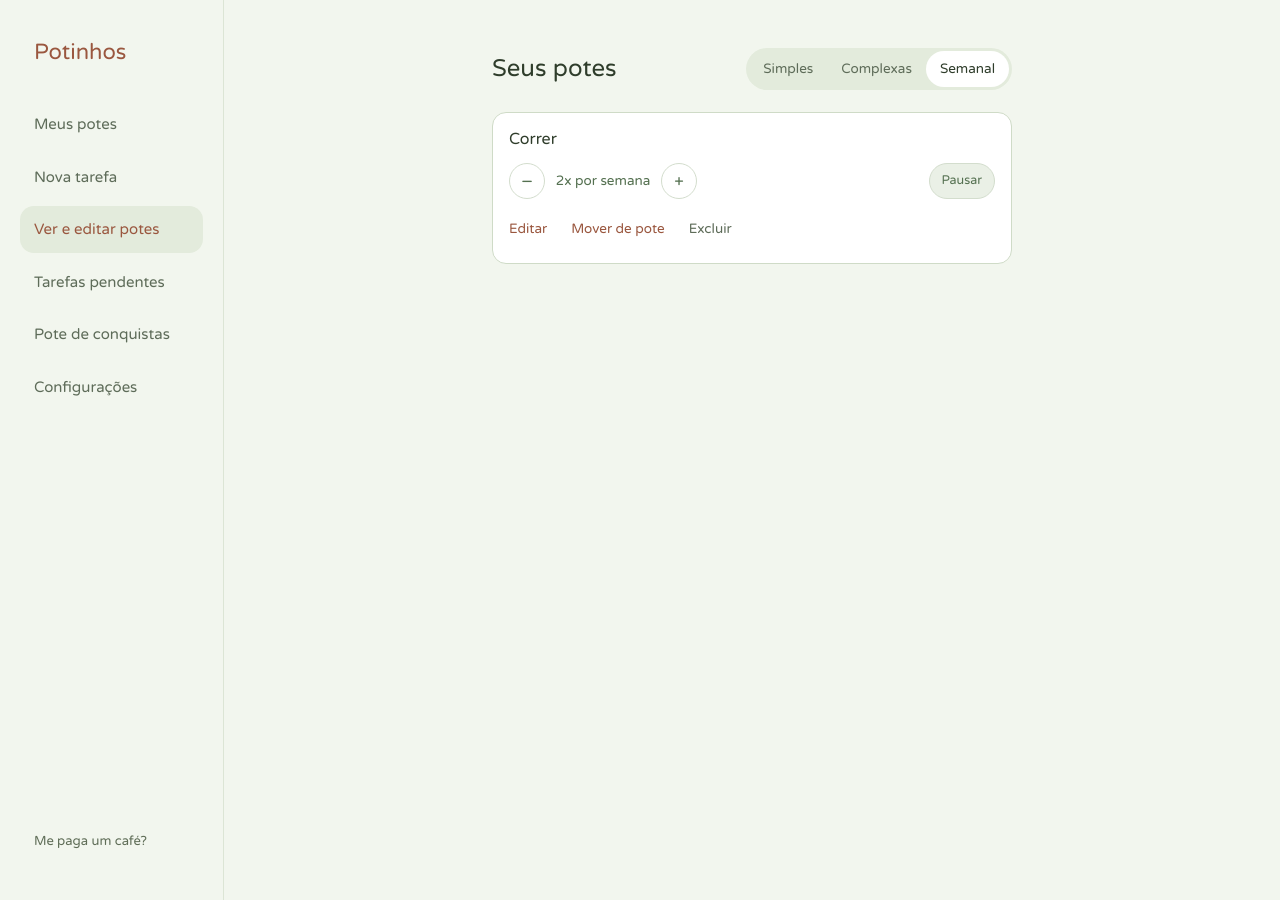
Test case: Edit › weekly: frequency and pause, without "X de Y esta semana"
This screenshot has width=1280, height=900.
Expected: the heading "Seus potes" is shown, [492, 51, 616, 87]
Expected: the text "2x por semana" is shown, [555, 171, 651, 191]
Click the button named "Uma vez a mais por semana": x=679, y=181 [661, 163, 697, 199]
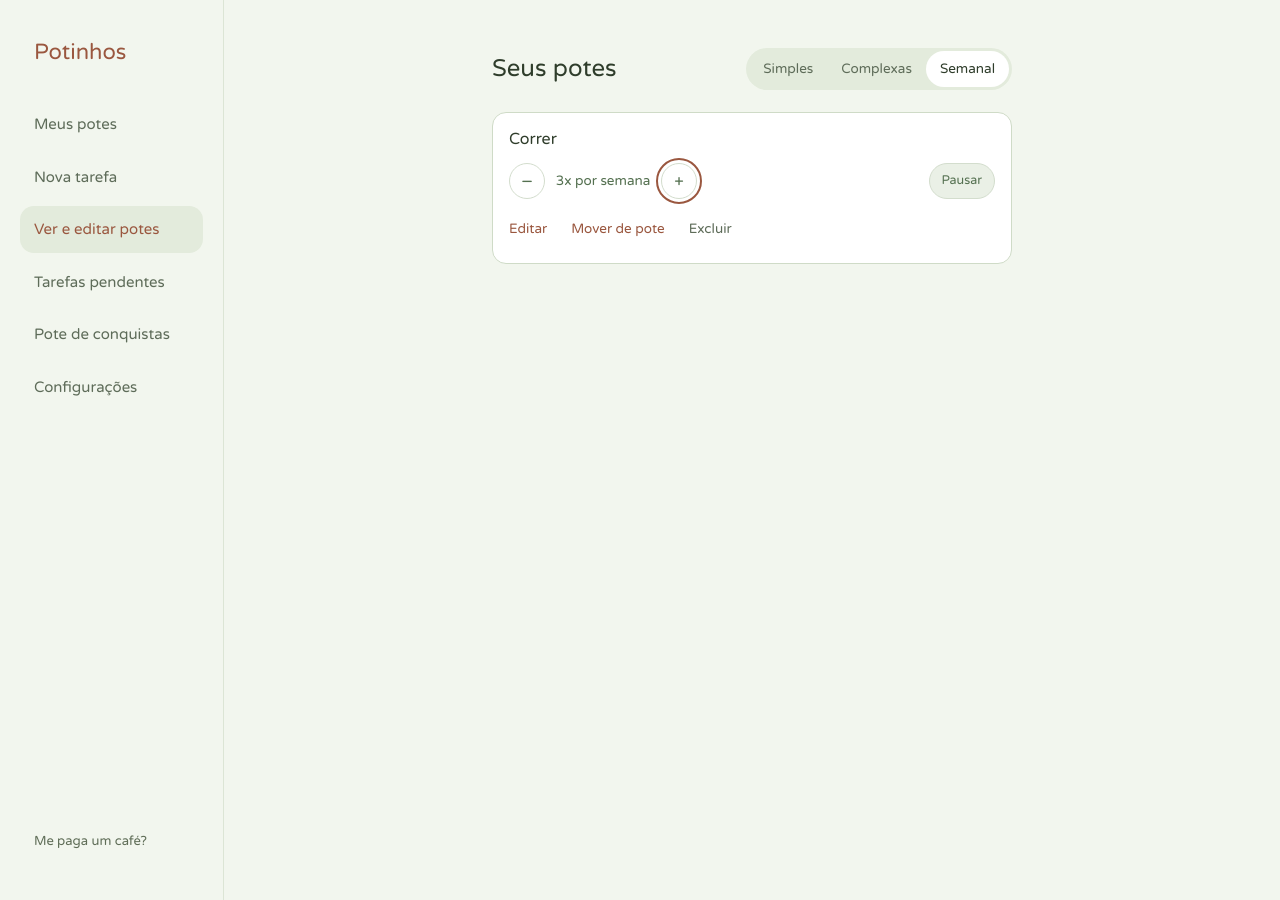
Now the text "3x por semana" is shown, box [555, 171, 651, 191]
Click the button "Pausar": x=962, y=181 [928, 163, 995, 199]
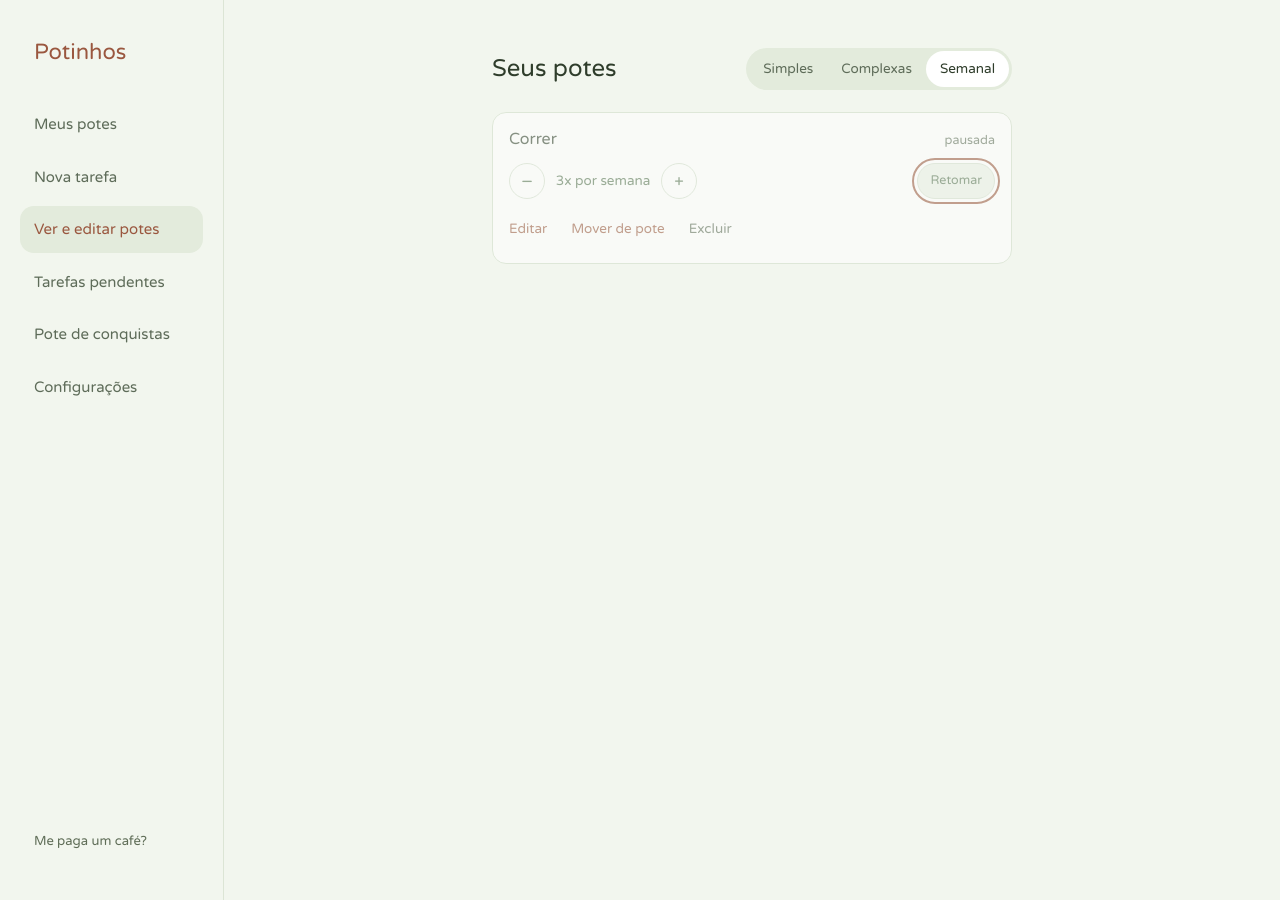
Now the text "pausada" is shown, box [945, 132, 995, 151]
Click the button "Retomar": x=956, y=181 [917, 163, 995, 199]
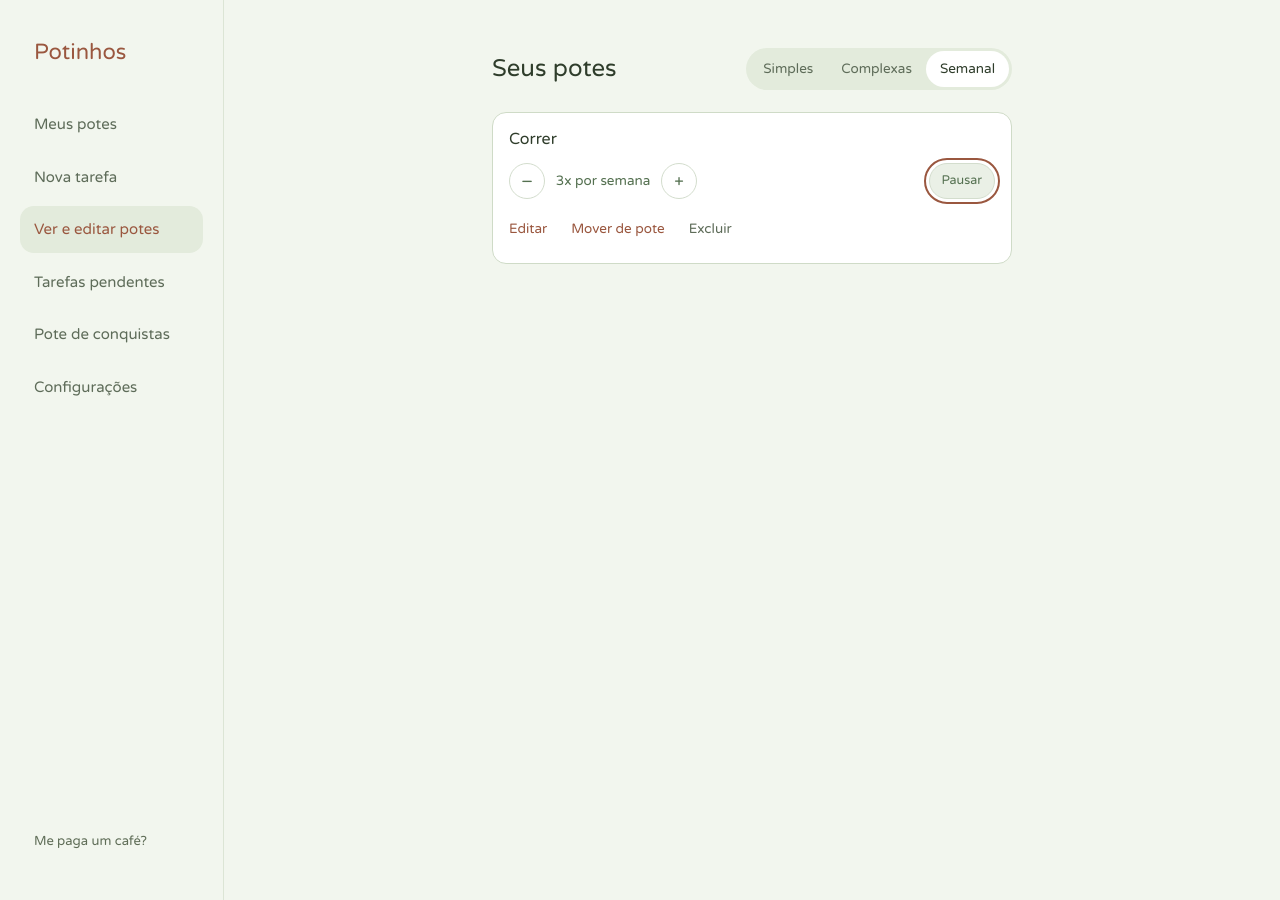
Now the text "pausada" is gone
